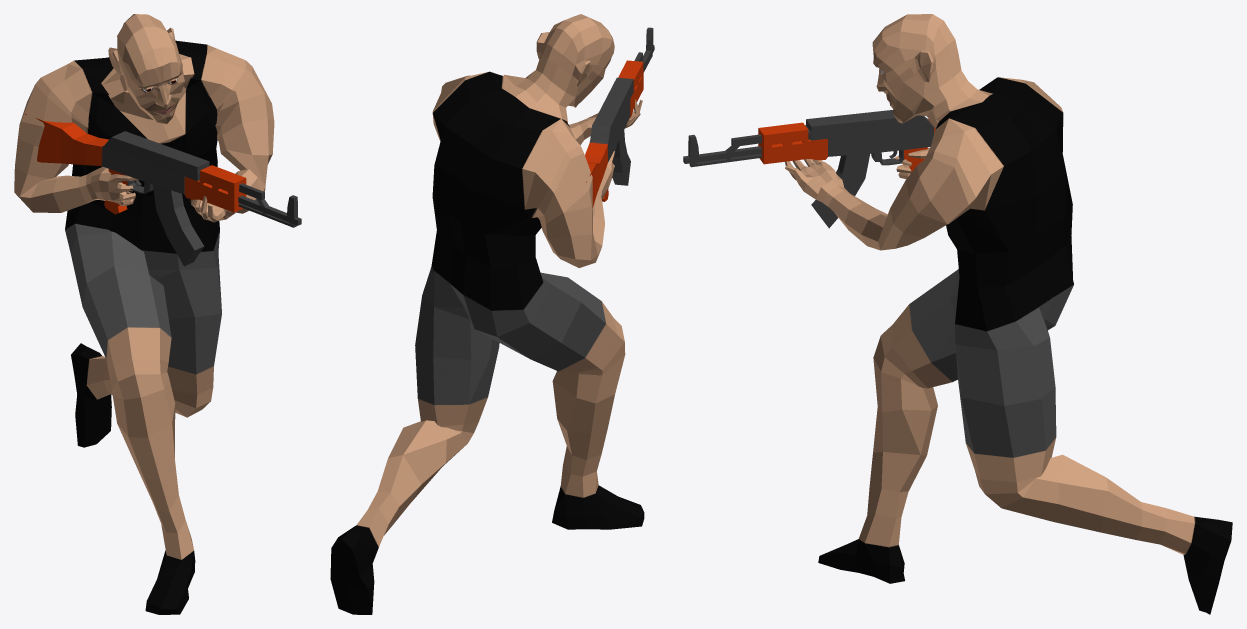
Rendered from PlayerWalk(25).obj.
3 renders of one model, left to right at view 1: azimuth 30°, elevation 25°; view 2: azimuth 150°, elevation 25°; view 3: azimuth 270°, elevation 25°, orthographic. The views are drawn at different scales.
Visible parts, largest first — view 1: Plane002, Object001; view 2: Plane002, Object001; view 3: Plane002, Object001.
Boxes of the visible parts, box(x1,y1,x2,y2) form: Plane002: box(14, 14, 274, 614); Object001: box(25, 113, 301, 266); Plane002: box(330, 14, 644, 614); Object001: box(585, 27, 654, 207); Plane002: box(785, 14, 1232, 614); Object001: box(683, 110, 935, 228).
Bounding box in the file's own units: 595 × 1536 × 1370.
